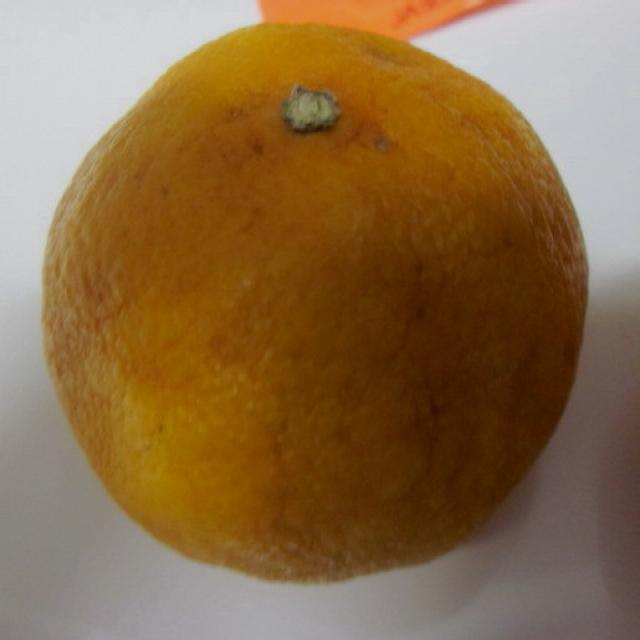Orange: (31, 26, 604, 578)
